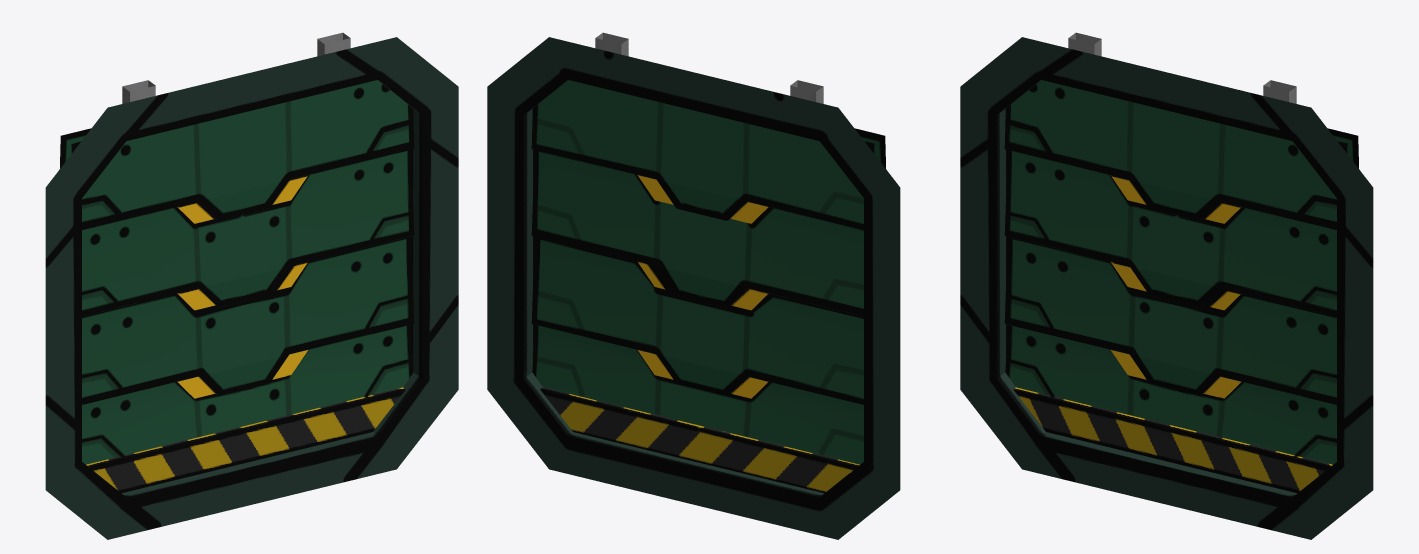
Rendered from porta_scorrevole_DEF1.fbx.
3 renders of one model, left to right at view 1: azimuth 30°, elevation 25°; view 2: azimuth 150°, elevation 25°; view 3: azimuth 330°, elevation 25°, orthographic.
Visible parts, largest first — view 1: pCube1, group3_pCube2, group6_pCube2, group5_pCube2, pCube11; view 2: pCube1, group3_pCube2, group6_pCube2, group5_pCube2, pCube11; view 3: pCube1, group3_pCube2, group6_pCube2, group5_pCube2, pCube11.
Part boxes in pixels (bbox=[...]): pCube1: bbox=[45, 37, 458, 539]; group3_pCube2: bbox=[82, 236, 414, 404]; group6_pCube2: bbox=[82, 150, 414, 316]; group5_pCube2: bbox=[60, 32, 414, 229]; pCube11: bbox=[82, 324, 413, 493]; pCube1: bbox=[487, 37, 900, 539]; group3_pCube2: bbox=[531, 236, 863, 404]; group6_pCube2: bbox=[531, 150, 863, 316]; group5_pCube2: bbox=[531, 32, 885, 229]; pCube11: bbox=[532, 324, 863, 493]; pCube1: bbox=[960, 37, 1373, 539]; group3_pCube2: bbox=[1004, 236, 1336, 404]; group6_pCube2: bbox=[1004, 150, 1336, 316]; group5_pCube2: bbox=[1004, 32, 1358, 229]; pCube11: bbox=[1005, 324, 1336, 493].
Bounding box in the file's own units: 4.26 × 4.26 × 0.5619.
Materials: 1 (1 with a texture image).
